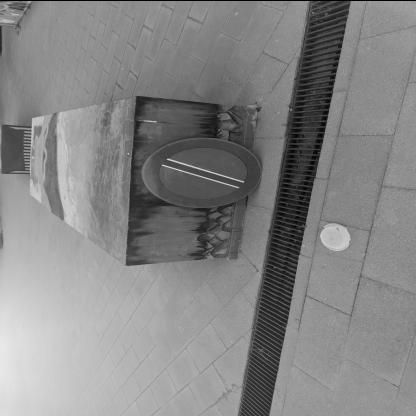No Waiting: (142, 138, 264, 209)
